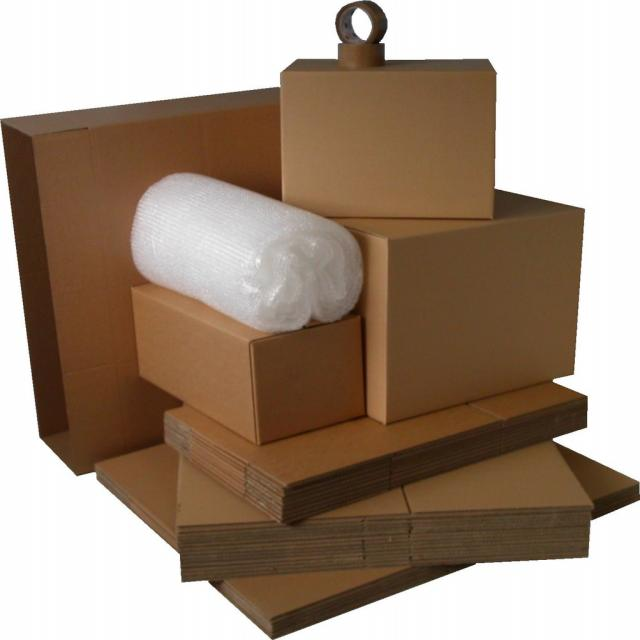Box: (0, 86, 282, 474), (326, 188, 585, 424), (130, 282, 366, 446), (280, 58, 496, 220)
